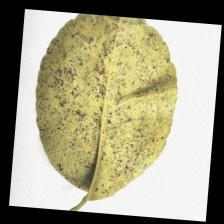canker: (52, 42, 154, 159)
